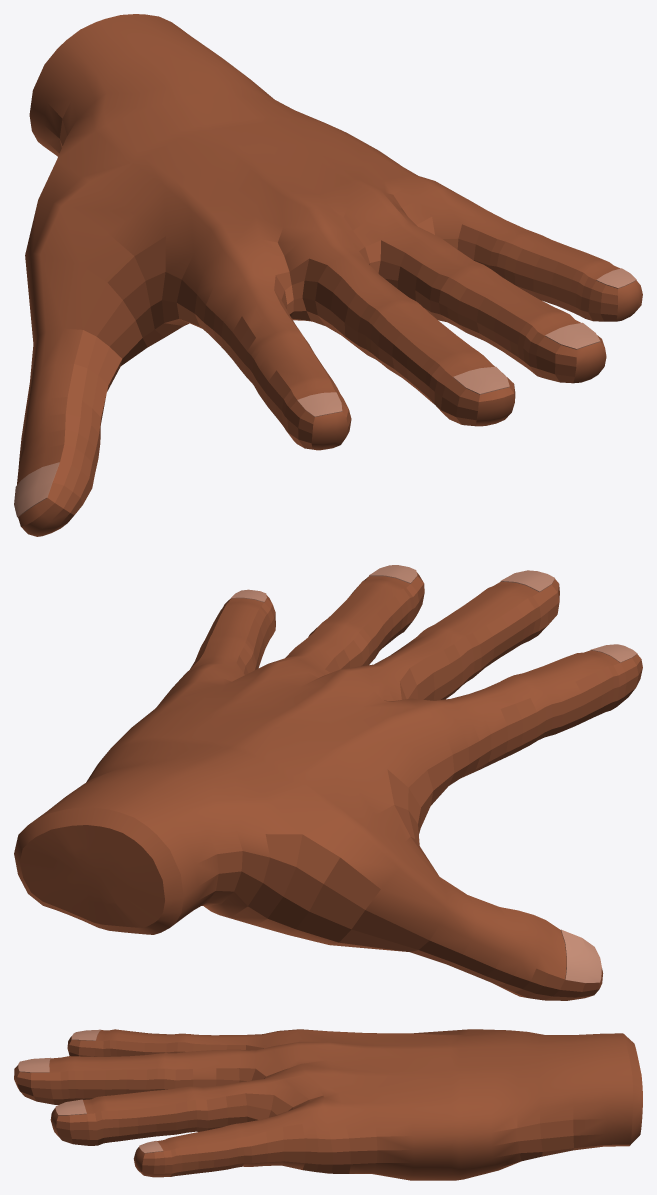
The model's file is hand_left_open.obj.
3 renders of one model, top to bottom at view 1: azimuth 30°, elevation 25°; view 2: azimuth 150°, elevation 25°; view 3: azimuth 270°, elevation 25°, orthographic. The views are drawn at different scales.
Parts seen in each view (by area): view 1: hand:Mesh; view 2: hand:Mesh; view 3: hand:Mesh.
Part boxes in pixels (left/top/right/bottom): hand:Mesh: left=14, top=14, right=642, bottom=536; hand:Mesh: left=14, top=565, right=642, bottom=1000; hand:Mesh: left=14, top=1029, right=642, bottom=1180.
Bounding box in the file's own units: 1.71 × 0.9402 × 2.58.
